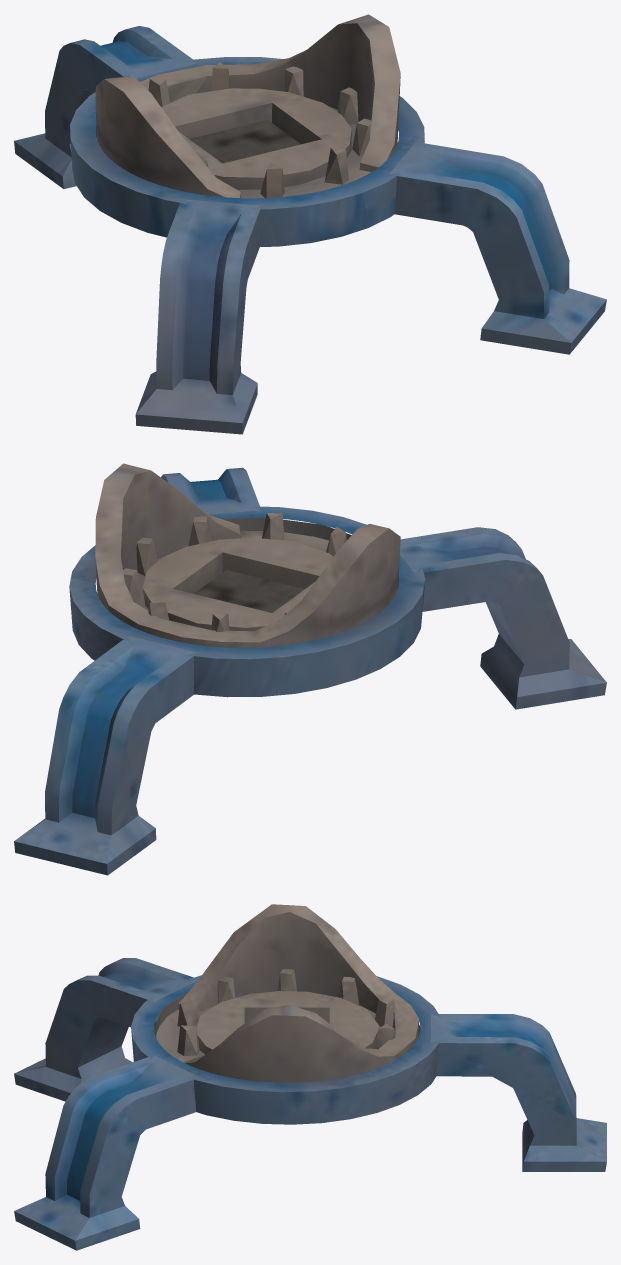
File: fast-inserter.glb
3 views of the same model, one above another, from view 1: azimuth 30°, elevation 25°; view 2: azimuth 150°, elevation 25°; view 3: azimuth 270°, elevation 25° (orthographic). The views are drawn at different scales.
Visible parts, largest first — view 1: body; view 2: body; view 3: body.
Boxes of the visible parts, box(x1,y1,x2,y2) form: body: box(14, 14, 606, 434); body: box(14, 463, 606, 875); body: box(14, 904, 606, 1250).
Bounding box in the file's own units: 0.9048 × 0.4168 × 1.15.
Materials: 1 (1 with a texture image).
